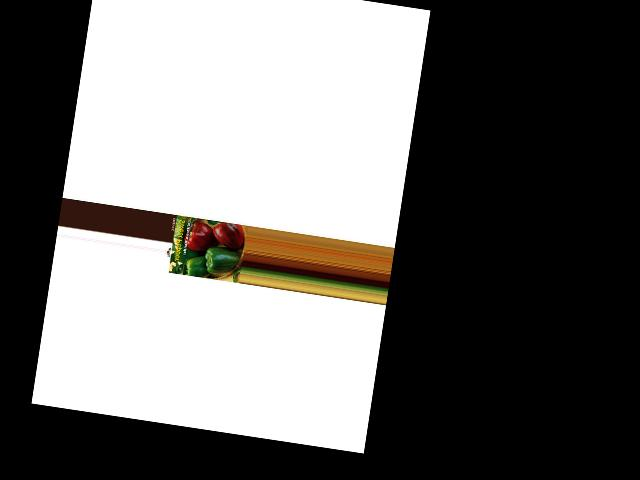bell_pepper: (182, 255, 215, 280)
